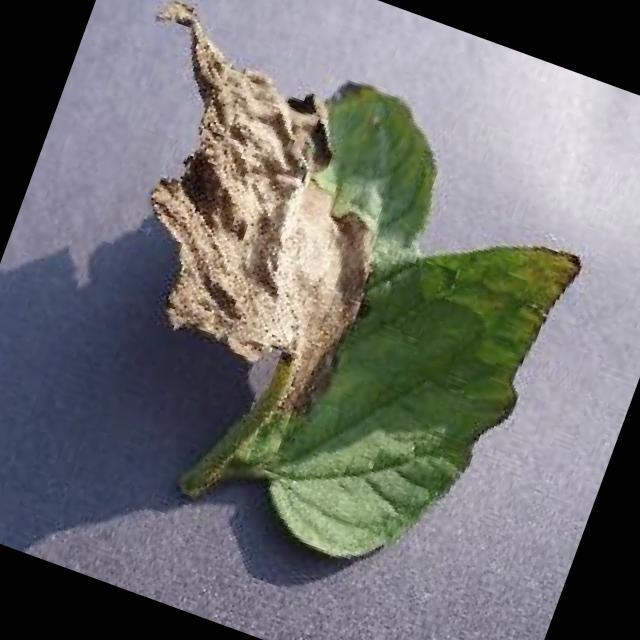Tomato late blight leaf: (0, 0, 625, 608)
